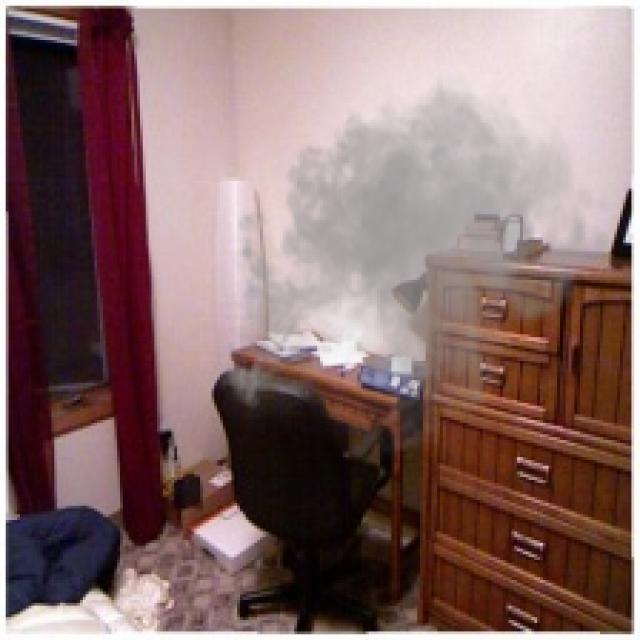Smoke: (212, 57, 614, 477)
